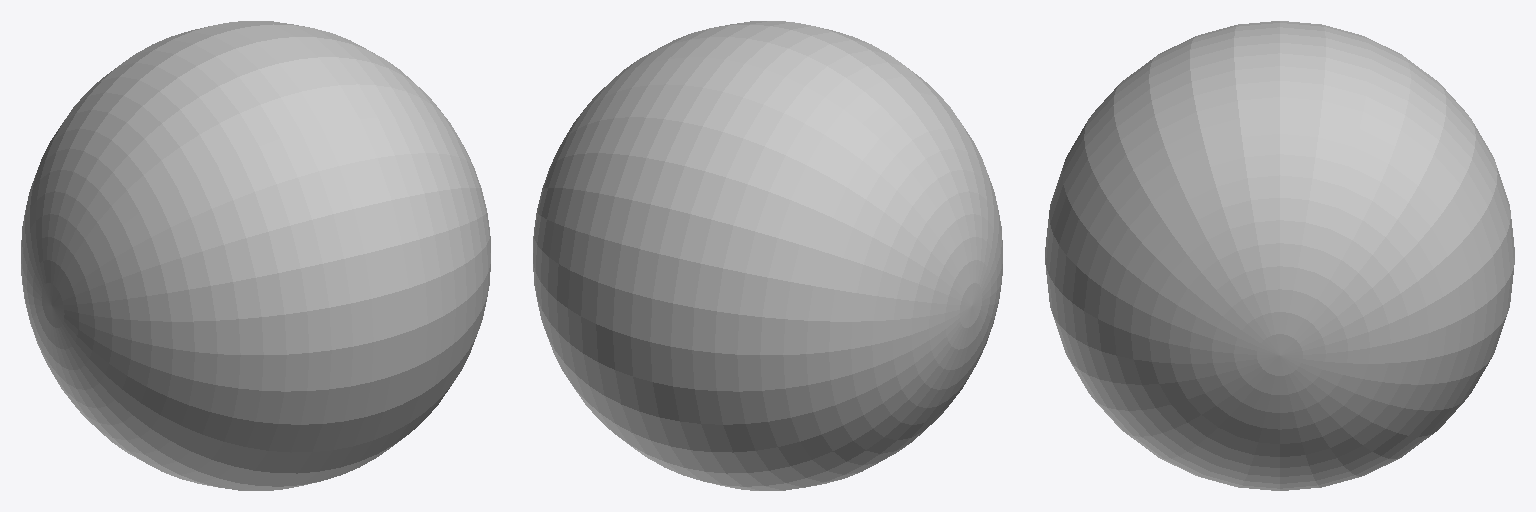
Rendered from planet.obj.
3 renders of one model, left to right at view 1: azimuth 30°, elevation 25°; view 2: azimuth 150°, elevation 25°; view 3: azimuth 270°, elevation 25°, orthographic.
Parts seen in each view (by area): view 1: Plane; view 2: Plane; view 3: Plane.
Boxes of the visible parts, x1,y1,x2,y2 form: Plane: [21, 21, 490, 490]; Plane: [533, 21, 1002, 490]; Plane: [1045, 21, 1514, 490].
Size of the model in its own units: 30.77 by 30.77 by 30.77.